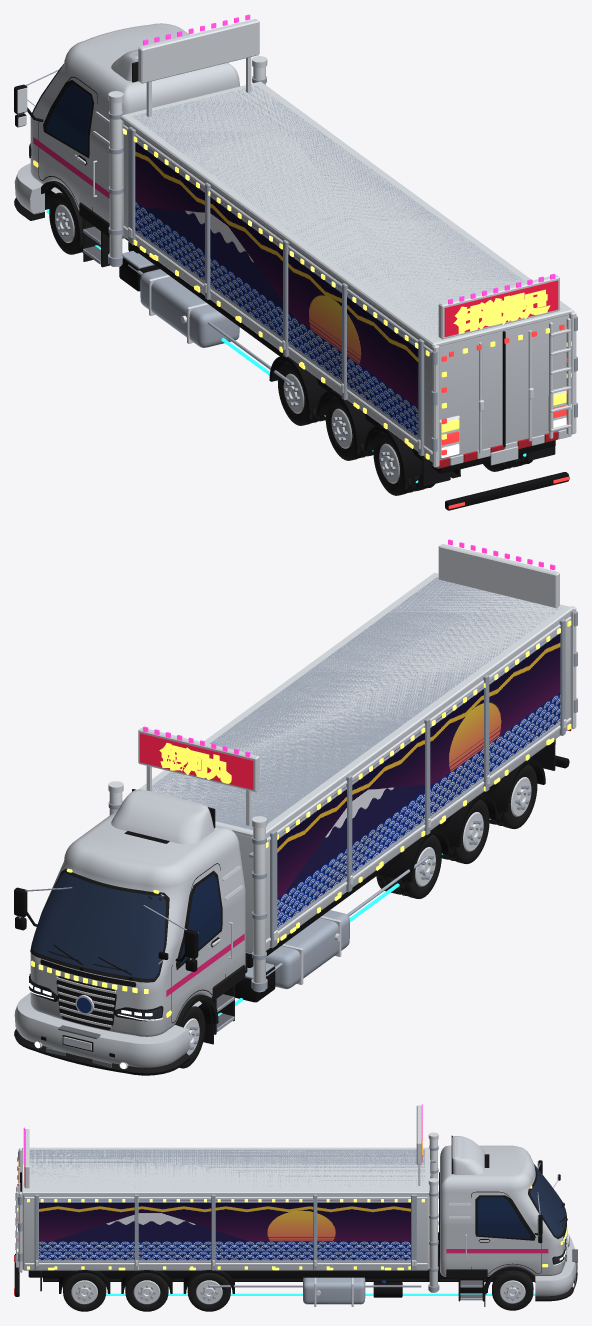
Rendered from dekotora_truck_longo_aero.glb.
3 renders of one model, top to bottom at view 1: azimuth 30°, elevation 25°; view 2: azimuth 150°, elevation 25°; view 3: azimuth 270°, elevation 25°, orthographic. The views are drawn at different scales.
Parts seen in each view (by area): view 1: truck_chrome, truck_paint_white_panel, truck_steel, truck_mural, truck_plastic_black, truck_lamp_amber, truck_plastic_trim, truck_glass, wheel_r_L_1.5_1.06, wheel_r_L_3.0_1.06, wheel_r_L_4.5_1.06, truck_andon_panel (+5 smaller); view 2: truck_chrome, truck_steel, truck_paint_white_panel, truck_mural, truck_glass_wind, truck_plastic_black, truck_plastic_trim, truck_lamp_amber, truck_andon_panel, truck_glass, wheel_r_L_1.5_1.06, wheel_r_L_3.0_1.06 (+3 smaller); view 3: truck_chrome, truck_mural, truck_paint_white_panel, truck_steel, truck_plastic_black, truck_plastic_trim, truck_glass, wheel_f_R, wheel_r_R_3.0_1.06, wheel_r_R_1.5_1.06, wheel_r_R_4.5_1.06, truck_glass_wind (+4 smaller).
Boxes of the visible parts, x1,y1,x2,y2 form: truck_chrome: (17,18,576,467); truck_paint_white_panel: (14,23,569,462); truck_steel: (19,69,577,456); truck_mural: (135,140,418,439); truck_plastic_black: (14,76,568,510); truck_lamp_amber: (33,136,571,459); truck_plastic_trim: (14,61,138,267); truck_glass: (47,84,91,154); wheel_r_L_1.5_1.06: (373,431,420,495); wheel_r_L_3.0_1.06: (325,396,369,460); wheel_r_L_4.5_1.06: (278,361,321,425); truck_andon_panel: (444,280,558,336); truck_chrome: (26,543,576,1068); truck_steel: (19,577,577,1031); truck_paint_white_panel: (14,613,570,1067); truck_mural: (277,632,560,930); truck_glass_wind: (31,872,165,978); truck_plastic_black: (14,739,568,1057); truck_plastic_trim: (14,789,245,1075); truck_lamp_amber: (31,620,571,1017); truck_andon_panel: (140,733,253,789); truck_glass: (180,874,220,964); wheel_r_L_1.5_1.06: (493,764,537,829); wheel_r_L_3.0_1.06: (445,799,489,863); truck_chrome: (15,1105,573,1306); truck_mural: (39,1200,410,1261); truck_paint_white_panel: (22,1136,576,1296); truck_steel: (18,1145,540,1304); truck_plastic_black: (14,1154,577,1297); truck_plastic_trim: (446,1135,577,1301); truck_glass: (478,1197,530,1238); wheel_f_R: (492,1270,533,1310); wheel_r_R_3.0_1.06: (125,1273,168,1311); wheel_r_R_1.5_1.06: (63,1273,106,1311); wheel_r_R_4.5_1.06: (187,1273,230,1311); truck_glass_wind: (530,1164,565,1236).
Size of the model in its own units: 3.31 by 4.51 by 13.57.
Materials: 25 (8 with a texture image).
